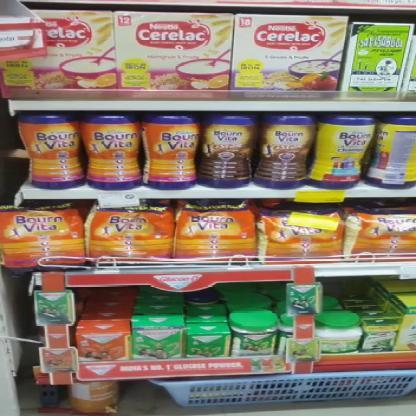Glucon D Regular 1-KG: (132, 330, 178, 360), (183, 324, 225, 356)
Glucon D Regular 2-KG: (232, 313, 274, 358)
Glucon D Tangy orange 1-KG: (74, 320, 122, 361)
